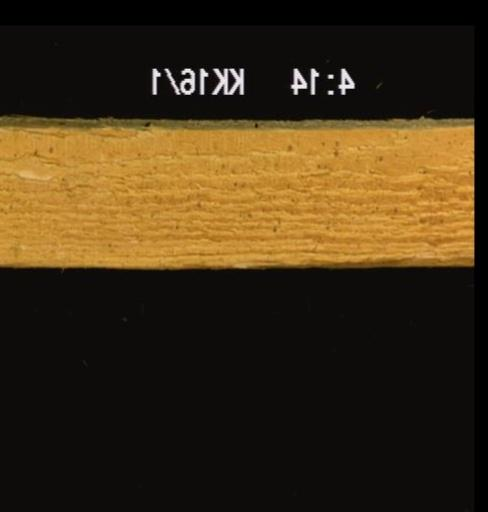wave: (300, 253, 472, 267)
